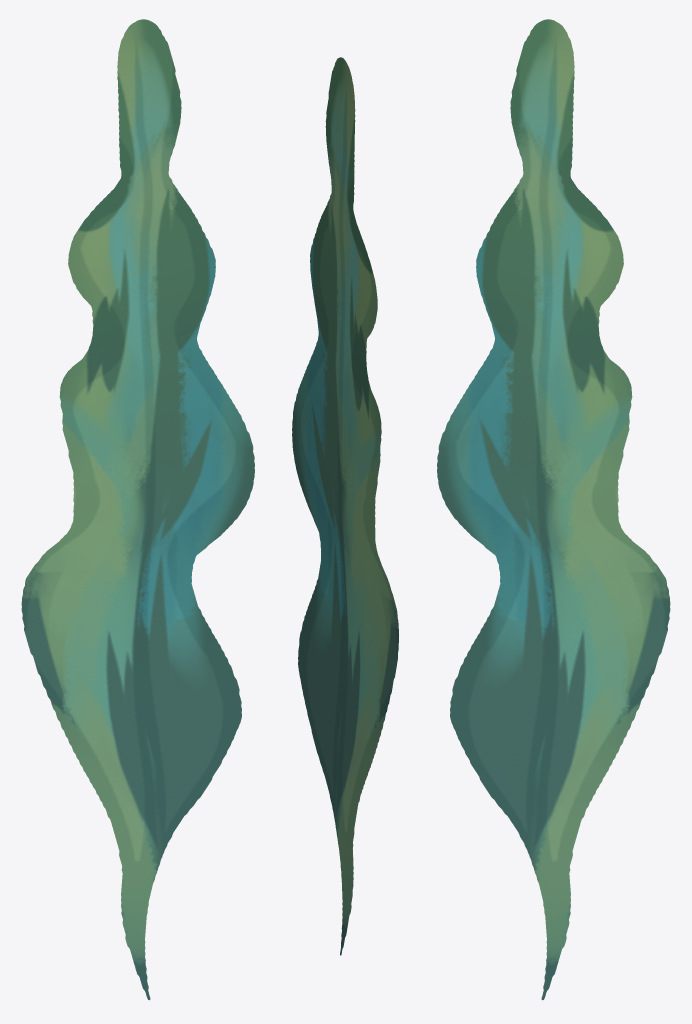
The model's file is AlgueVague1.fbx.
3 views of the same model, side by side, from view 1: azimuth 90°, elevation 25°; view 2: azimuth 210°, elevation 25°; view 3: azimuth 270°, elevation 25° (orthographic). The views are drawn at different scales.
Visible parts, largest first — view 1: AlgueVague1; view 2: AlgueVague1; view 3: AlgueVague1.
Part boxes in pixels (x1,y1,x2,y2): AlgueVague1: (21,19,254,1000); AlgueVague1: (292,57,398,955); AlgueVague1: (437,19,670,1000).
Size of the model in its own units: 8.74e-06 by 428 by 96.12.
